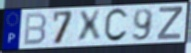7: (51, 10, 75, 46)
9: (130, 7, 156, 41)
B: (22, 12, 48, 47)
C: (103, 7, 130, 44)
X: (77, 9, 102, 45)
Z: (156, 6, 184, 41)
